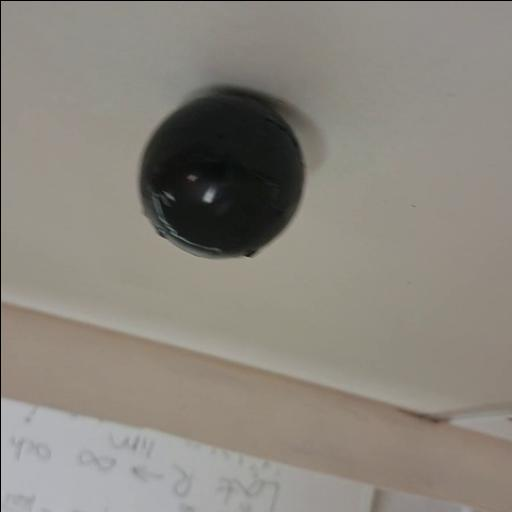dead: (140, 90, 306, 260)
